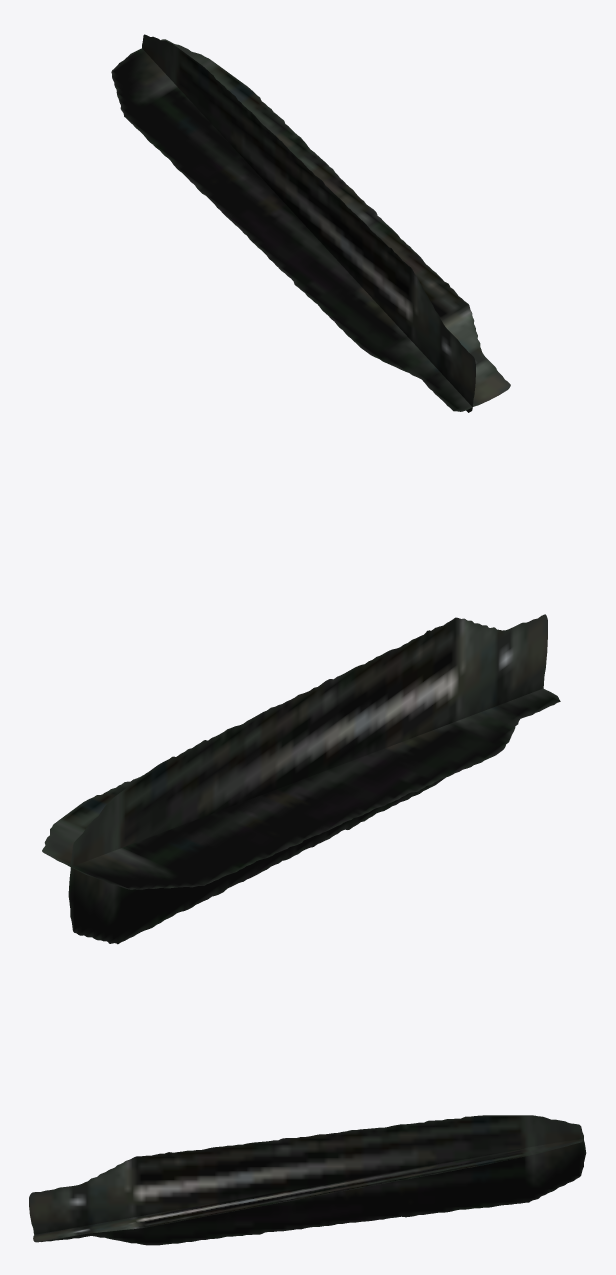
Rendered from dsdebris_tubesmall_l1.fbx.
The picture shows the model from 3 angles, top to bottom: view 1: azimuth 30°, elevation 25°; view 2: azimuth 150°, elevation 25°; view 3: azimuth 270°, elevation 25°; orthographic projection. The views are drawn at different scales.
Visible parts, largest first — view 1: mesh_node; view 2: mesh_node; view 3: mesh_node.
Boxes of the visible parts, left/top/right/bottom form: mesh_node: left=111, top=34, right=510, bottom=412; mesh_node: left=42, top=614, right=560, bottom=944; mesh_node: left=29, top=1115, right=586, bottom=1245.
Size of the model in its own units: 0.5496 by 0.35 by 1.31.
Materials: 1 (1 with a texture image).
